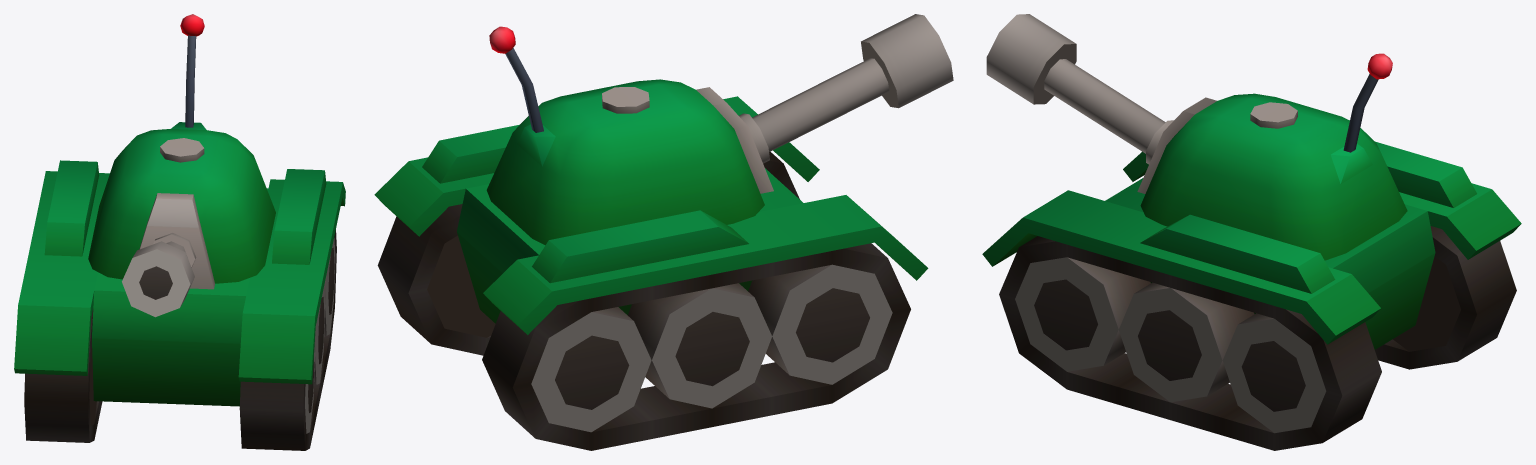
File: Tank.fbx
3 views of the same model, side by side, from view 1: azimuth 30°, elevation 25°; view 2: azimuth 150°, elevation 25°; view 3: azimuth 270°, elevation 25° (orthographic). The views are drawn at different scales.
Visible parts, largest first — view 1: Tank; view 2: Tank; view 3: Tank.
Part boxes in pixels (x1,y1,x2,y2): Tank: [14, 14, 345, 450]; Tank: [374, 14, 953, 450]; Tank: [982, 14, 1521, 450].
Bounding box in the file's own units: 2759 × 2068 × 2901.
1 material, 1 textured.
